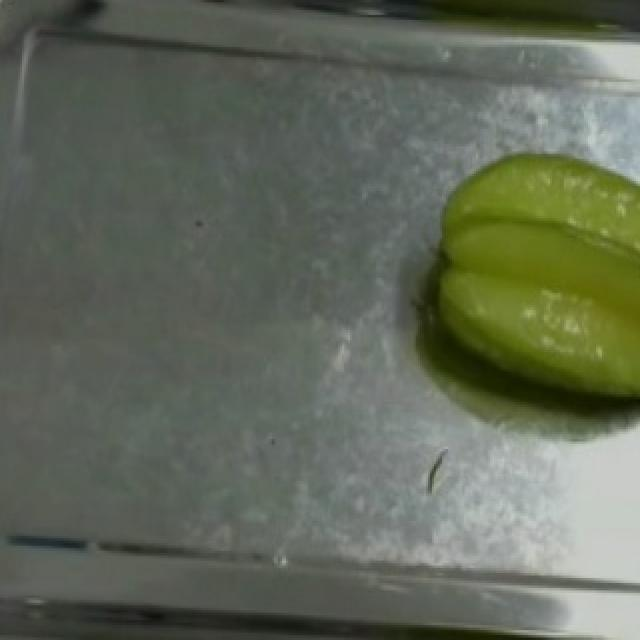fruit: (412, 134, 640, 432)
